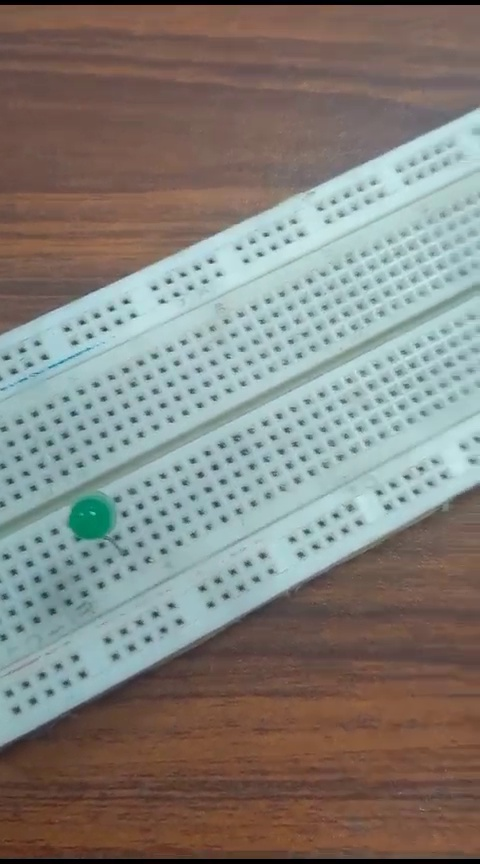LED: (58, 485, 130, 560)
